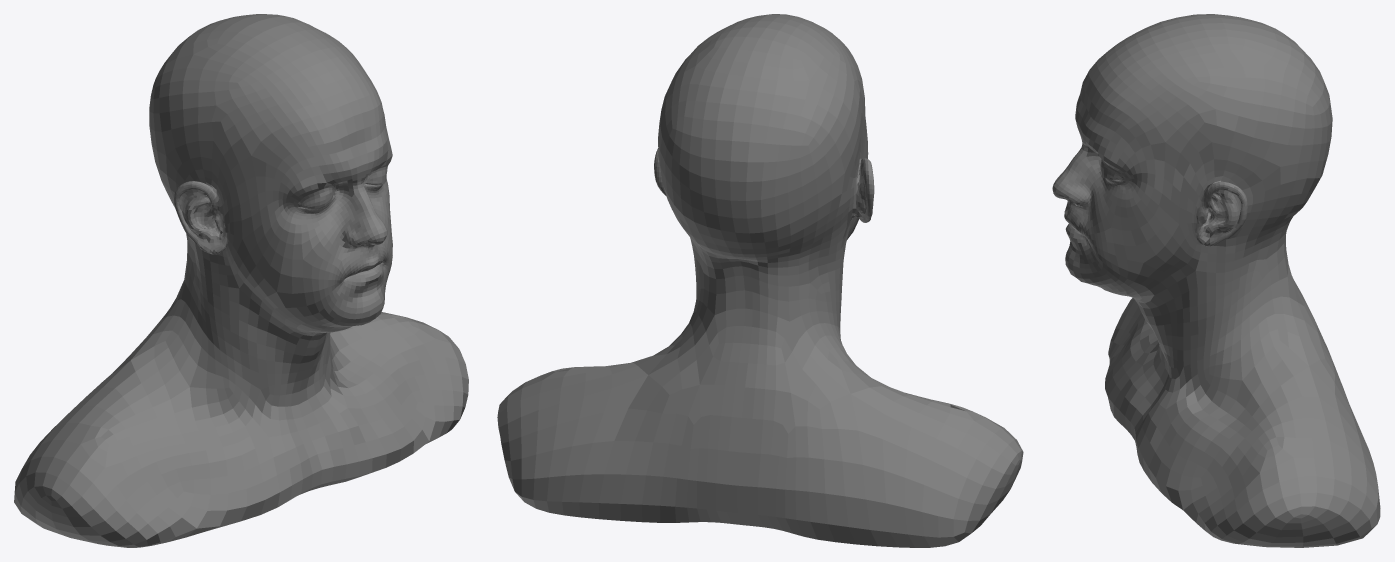
Rendered from Lee.glb.
The picture shows the model from 3 angles, left to right: view 1: azimuth 30°, elevation 25°; view 2: azimuth 150°, elevation 25°; view 3: azimuth 270°, elevation 25°; orthographic projection. The views are drawn at different scales.
Parts seen in each view (by area): view 1: node_id3; view 2: node_id3; view 3: node_id3.
Part boxes in pixels (<box>): node_id3: <box>14,14,468,547</box>; node_id3: <box>497,14,1023,547</box>; node_id3: <box>1052,14,1380,547</box>.
Bounding box in the file's own units: 0.4998 × 0.4837 × 0.3198.
1 material, 1 textured.
